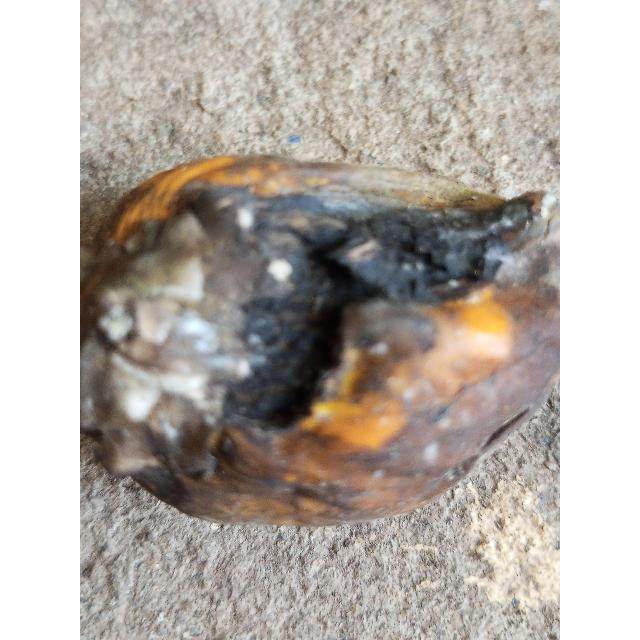damaged: (80, 154, 560, 532)
